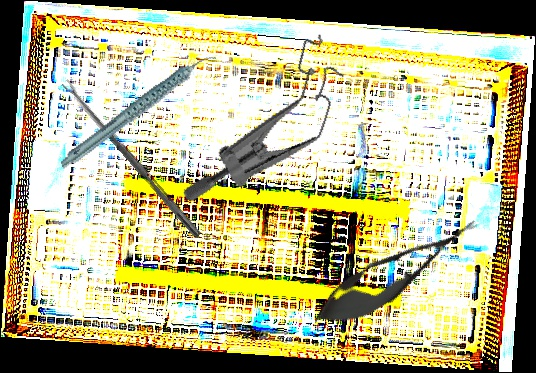Handpiece: (44, 53, 234, 170)
Micro Scissor: (303, 201, 490, 344)
Speculum: (178, 7, 358, 237)
Surgical Spoon: (61, 78, 203, 239)
